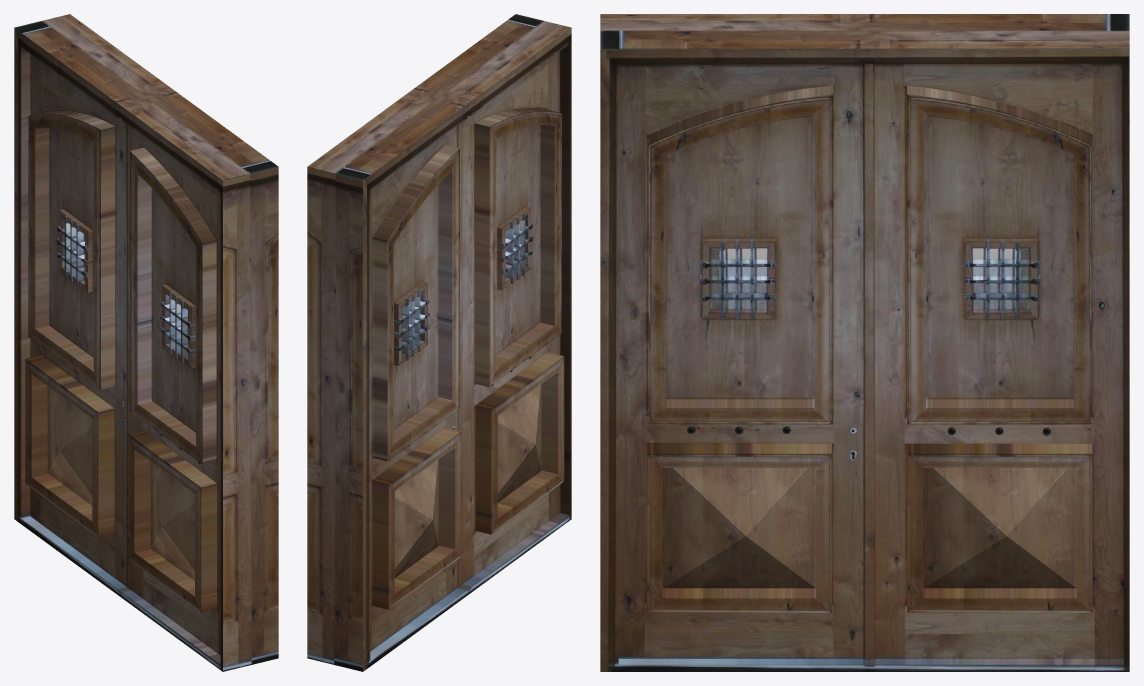
File: DoorBradleyHall.gltf
3 renders of one model, left to right at view 1: azimuth 30°, elevation 25°; view 2: azimuth 150°, elevation 25°; view 3: azimuth 270°, elevation 25°, orthographic. The views are drawn at different scales.
Parts seen in each view (by area): view 1: door_bradley_hall; view 2: door_bradley_hall; view 3: door_bradley_hall.
Part boxes in pixels (bbox=[...]): door_bradley_hall: bbox=[14, 14, 278, 671]; door_bradley_hall: bbox=[307, 14, 571, 671]; door_bradley_hall: bbox=[600, 14, 1129, 671].
Size of the model in its own units: 29.04 by 170 by 131.
Materials: 3 (1 with a texture image).
